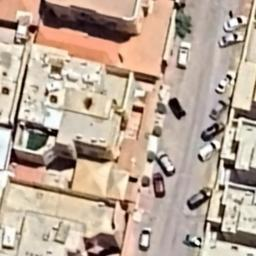SUV: (184, 184, 213, 212), (154, 146, 178, 178), (194, 139, 224, 163), (150, 171, 168, 201), (176, 40, 192, 72)
sedan: (199, 120, 227, 144), (214, 32, 246, 50), (214, 68, 236, 94), (167, 95, 188, 122), (209, 98, 231, 122), (222, 12, 248, 32), (137, 225, 153, 256), (182, 231, 208, 249)
